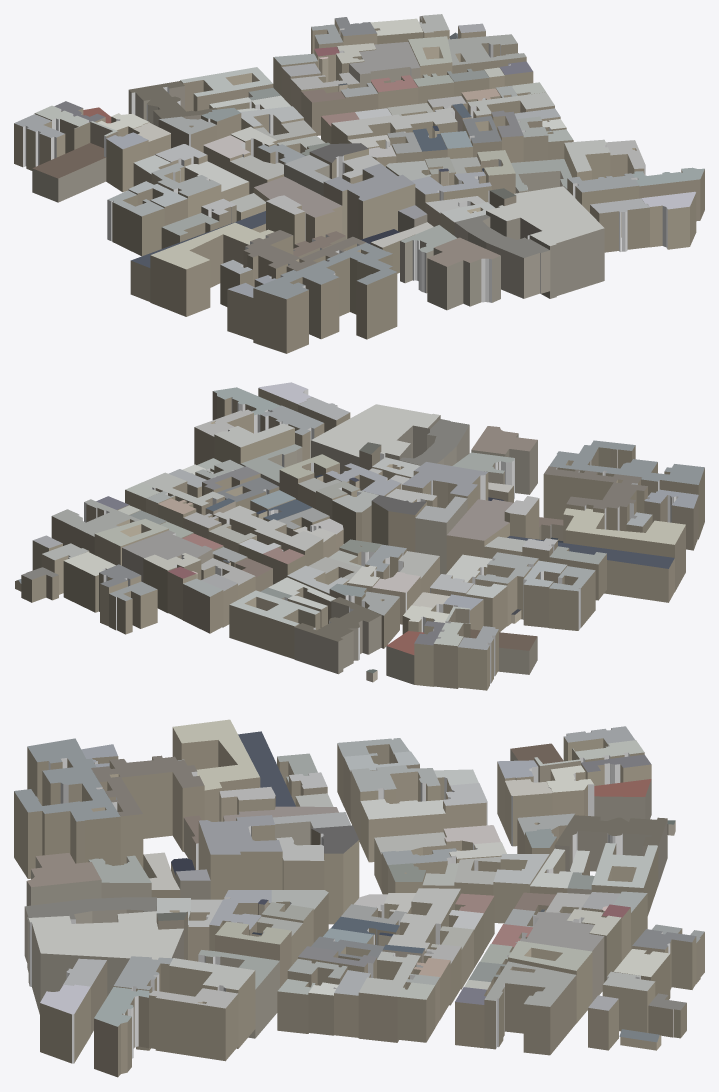
3 renders of one model, top to bottom at view 1: azimuth 30°, elevation 25°; view 2: azimuth 150°, elevation 25°; view 3: azimuth 270°, elevation 25°, orthographic. The views are drawn at different scales.
Parts seen in each view (by area): view 1: tuile; view 2: tuile; view 3: tuile.
Boxes of the visible parts, x1,y1,x2,y2 form: tuile: (14, 14, 704, 353); tuile: (15, 382, 704, 690); tuile: (14, 719, 704, 1077).
Size of the model in its own units: 296 by 41.86 by 282.
